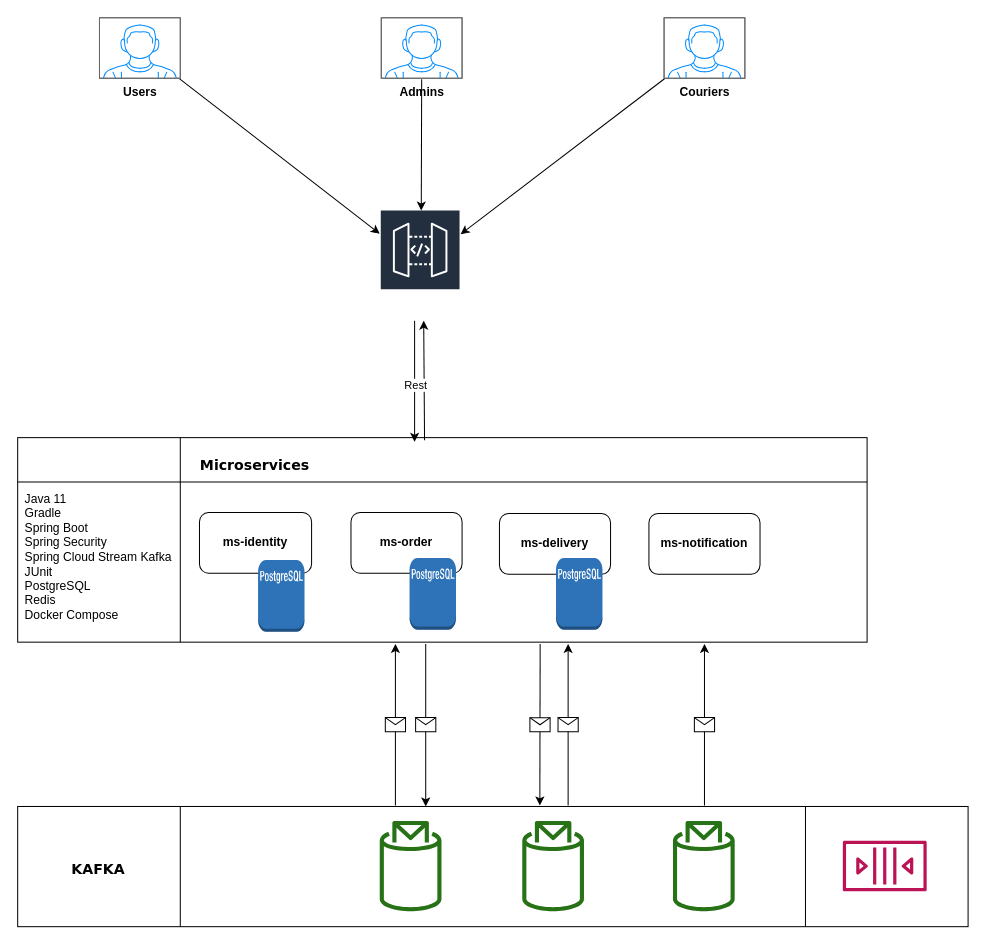
This 986x944 diagram has some shape labels left out. Each missing label, with the box of its shape:
API Gateway: (379, 209, 461, 321)
queue: (842, 840, 926, 891)
